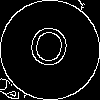O: (25, 25, 71, 77)
